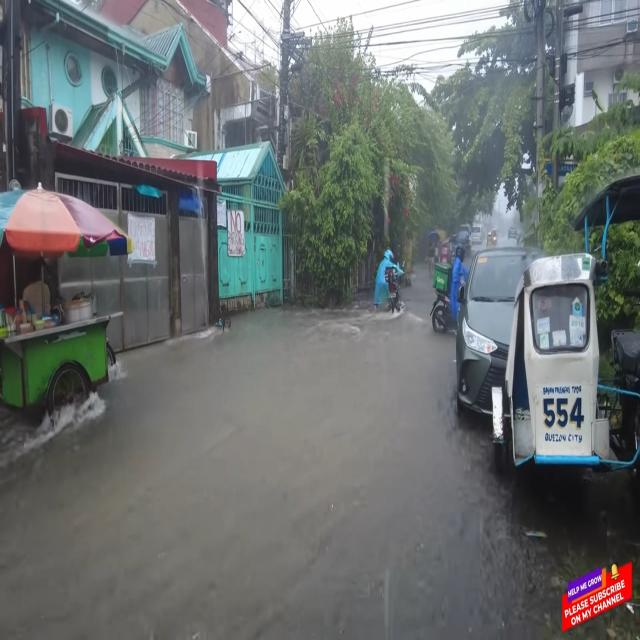half: (454, 241, 467, 263), (382, 246, 396, 265)
